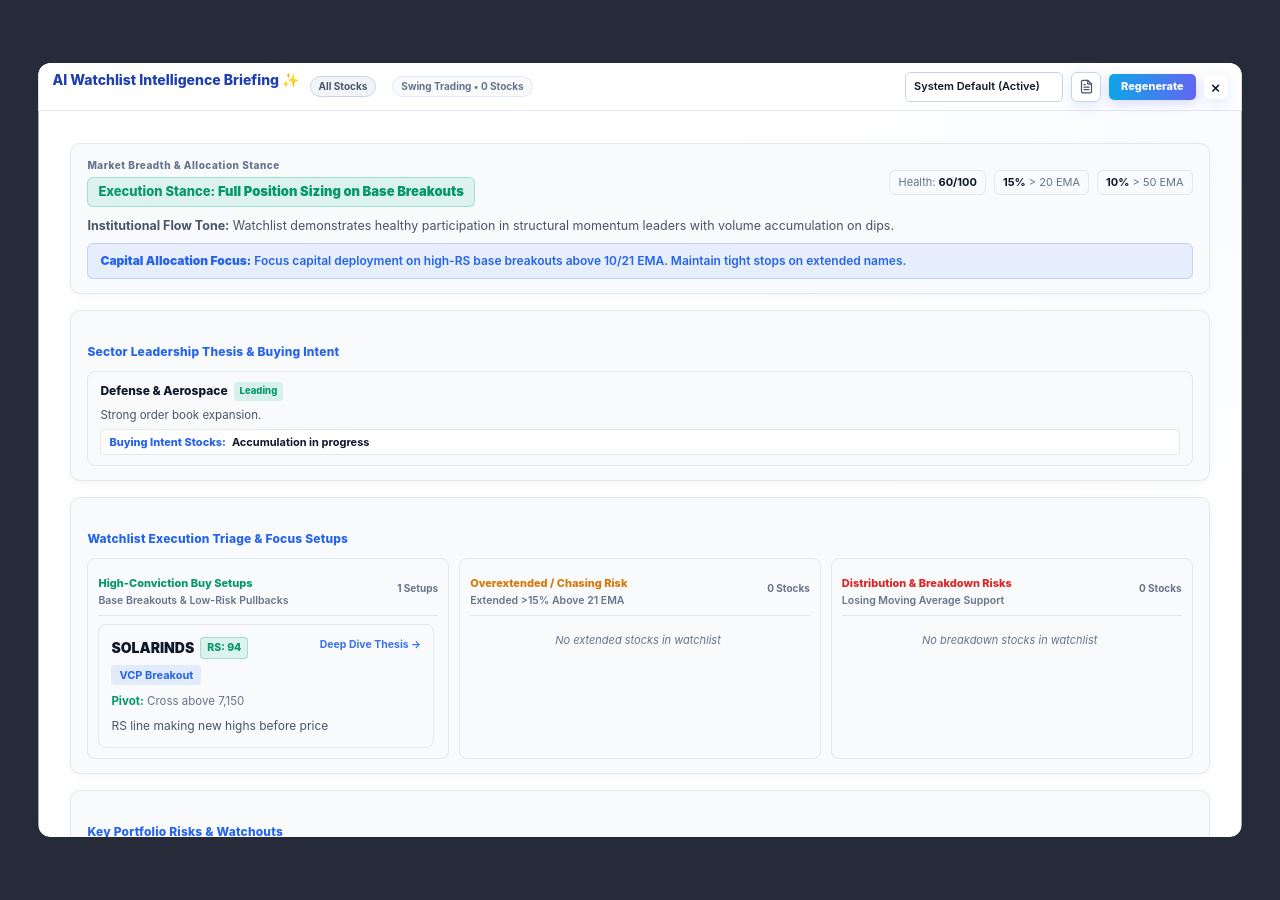
Test case: AnalyzeModal › renders the 5 decision intelligence pillars and opens in-modal thesis drawer
Expected: the text "Market Breadth & Allocation Stance" is shown, [87,159,280,171]
Expected: the text "Full Position Sizing on Base Breakouts" is shown, [218,183,464,199]
Click candidate card to open in-modal deep dive thesis drawer
Click the text "Deep Dive Thesis →" at (370, 645), box [320,637,421,653]
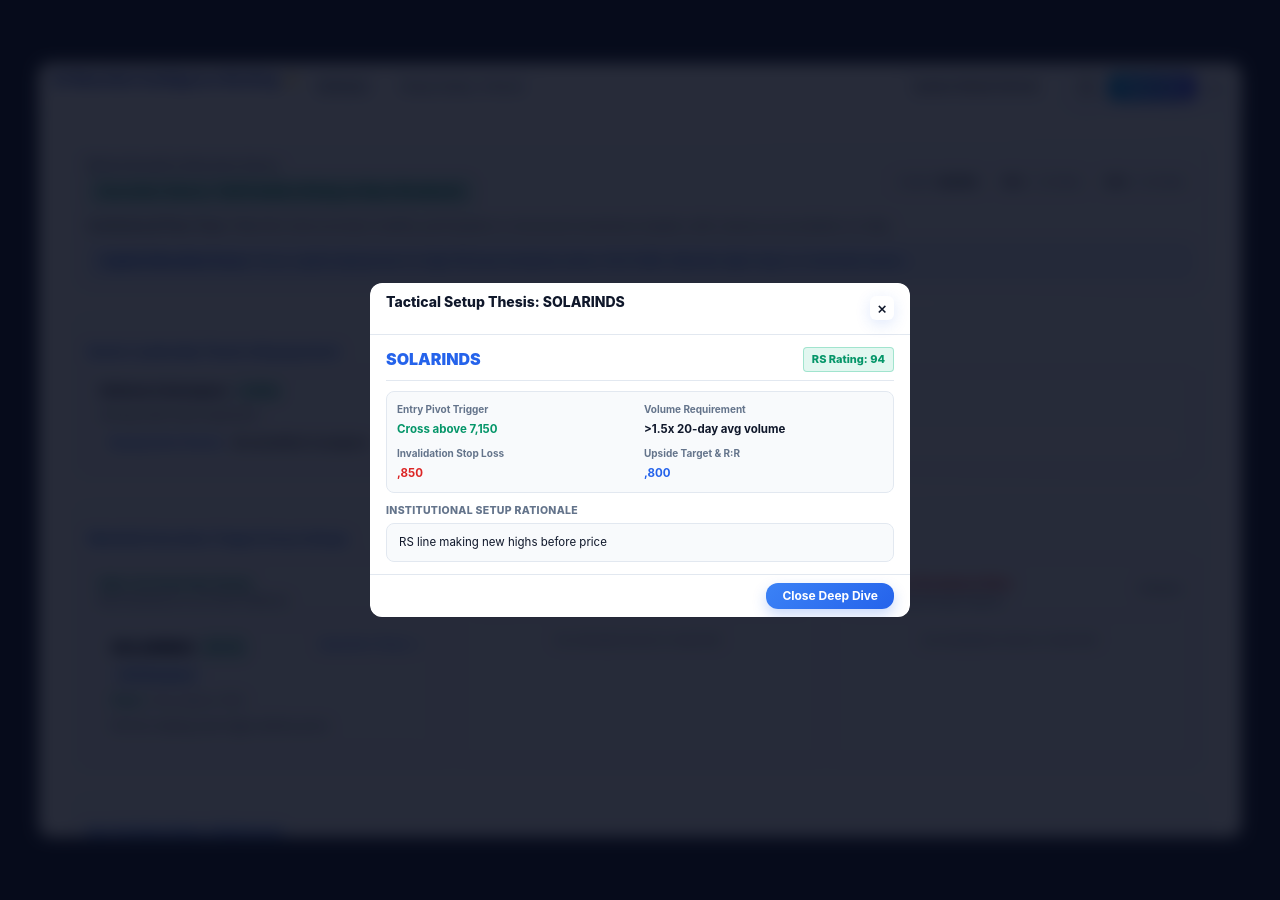
Expected: the heading "Tactical Setup Thesis: SOLARINDS" is shown, [386,292,625,310]
Close thesis drawer
Click the button "Close Deep Dive" at (830, 596), box [766,583,894,609]
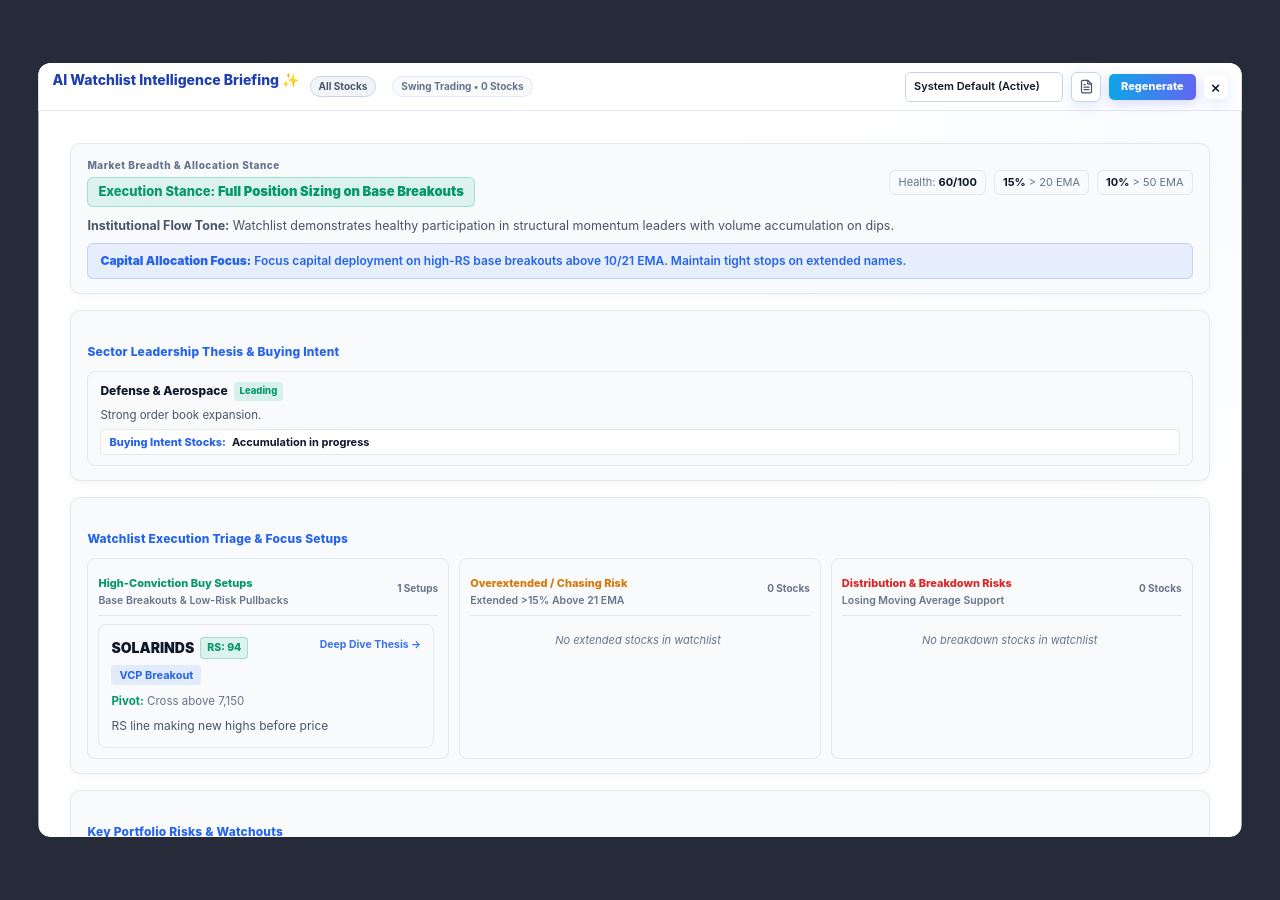
Expected: the heading "Tactical Setup Thesis: SOLARINDS" is gone
